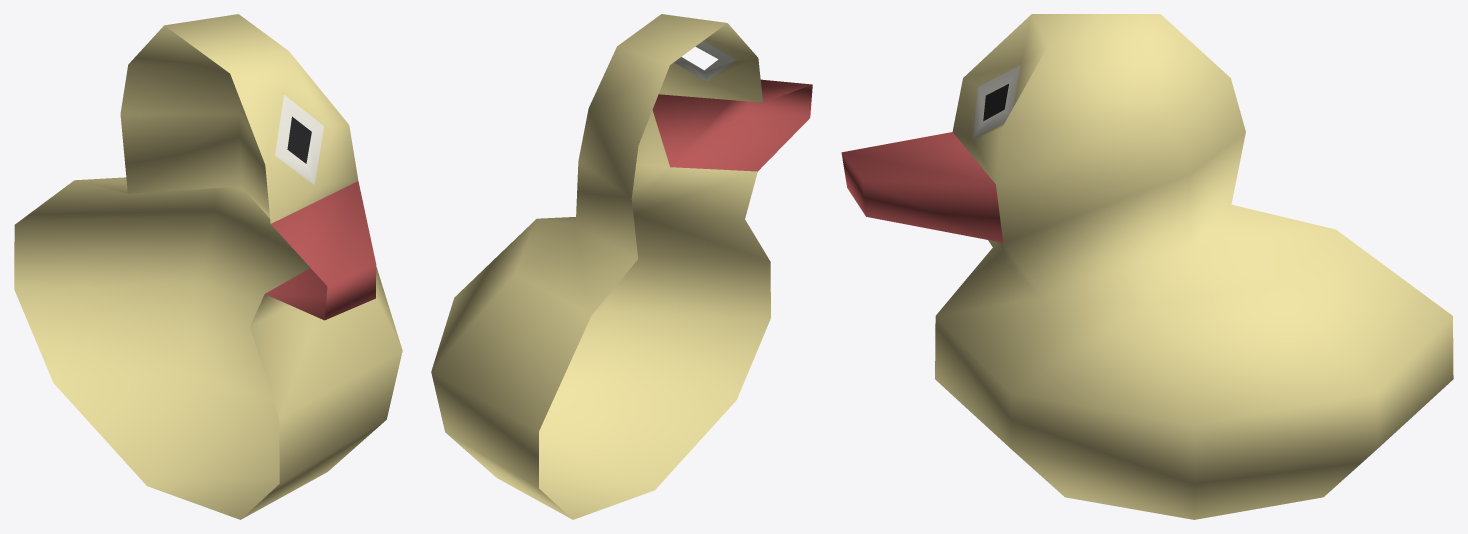
File: OBJ_Duck.glb
The picture shows the model from 3 angles, left to right: view 1: azimuth 30°, elevation 25°; view 2: azimuth 150°, elevation 25°; view 3: azimuth 270°, elevation 25°; orthographic projection. The views are drawn at different scales.
Parts seen in each view (by area): view 1: Sphere; view 2: Sphere; view 3: Sphere.
Part boxes in pixels (x1,y1,x2,y2): Sphere: (14,14,402,519); Sphere: (431,14,812,519); Sphere: (841,14,1453,519).
Size of the model in its own units: 0.1366 by 0.2695 by 0.3232.
